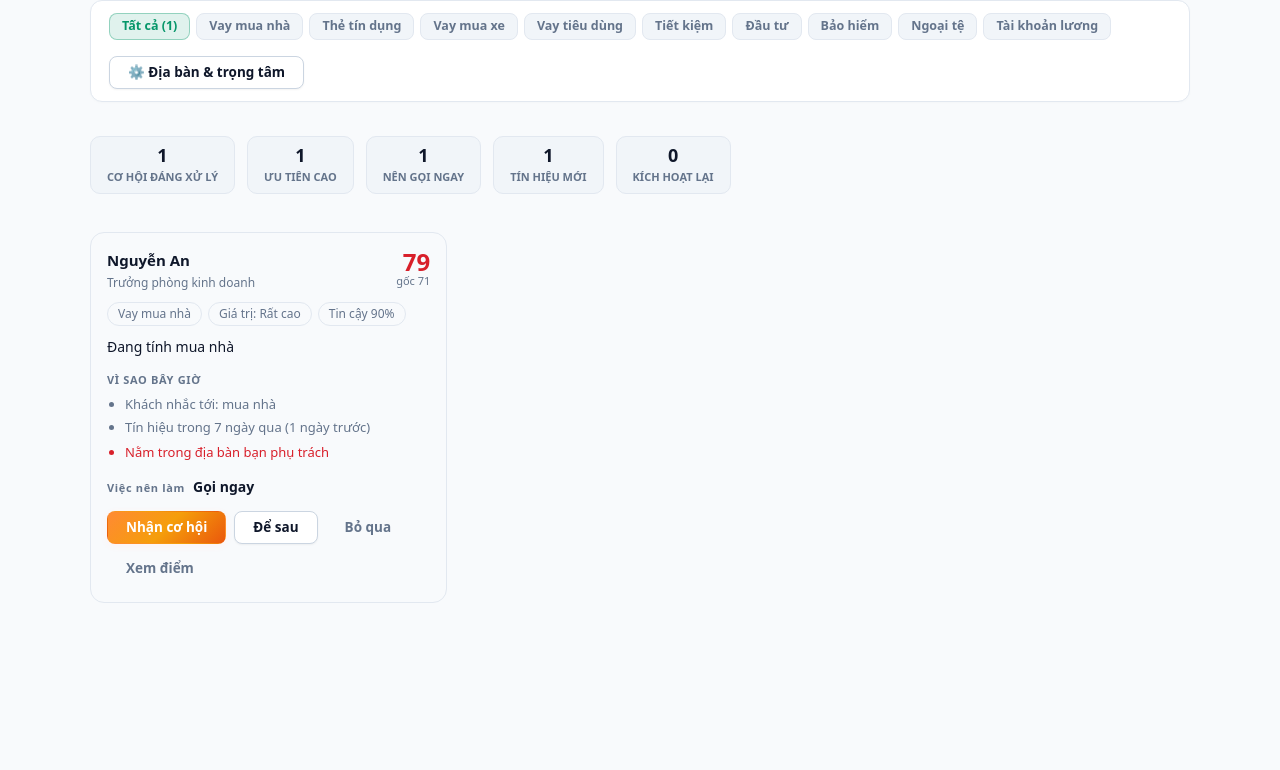
Cơ hội hôm nay › bỏ qua mà không nêu lý do thì bị chặn
Click the button "Bỏ qua" at point(368, 527), box [326,511,410,544]
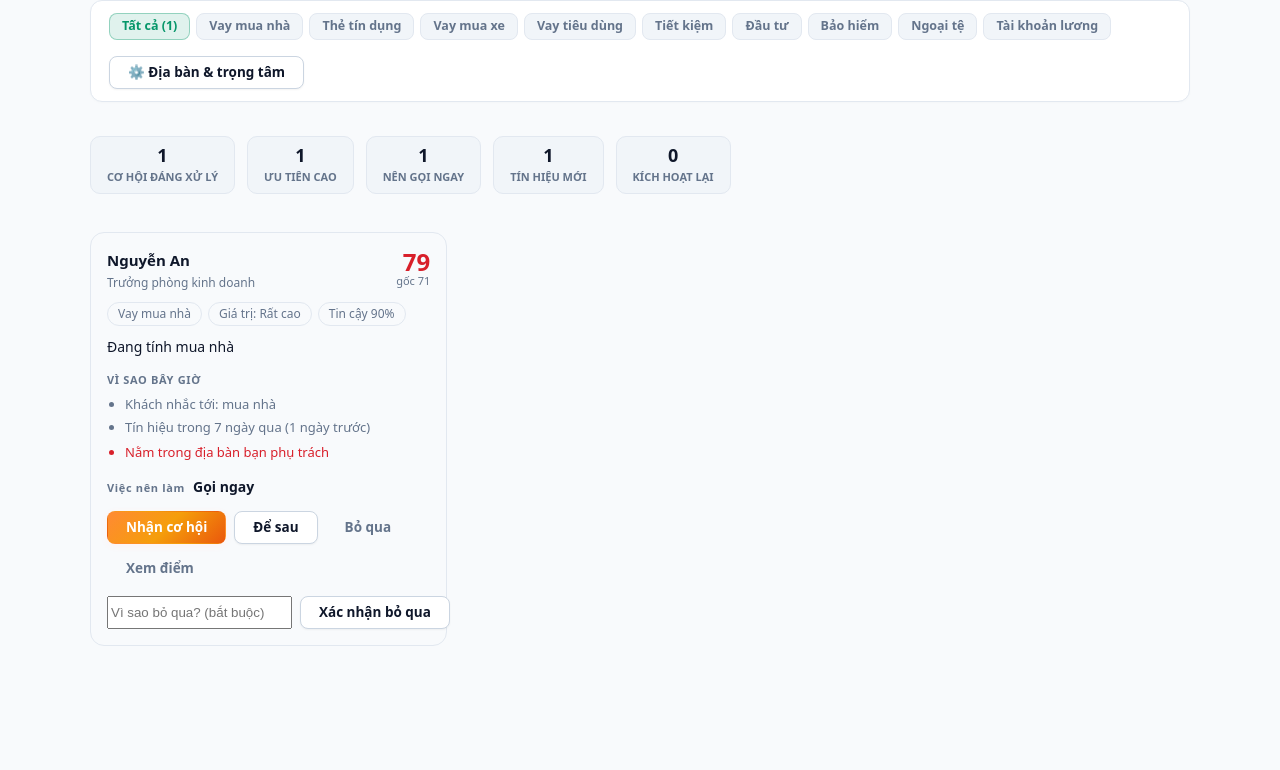
Click the button "Xác nhận bỏ qua" at point(375, 612), box [300,596,450,629]
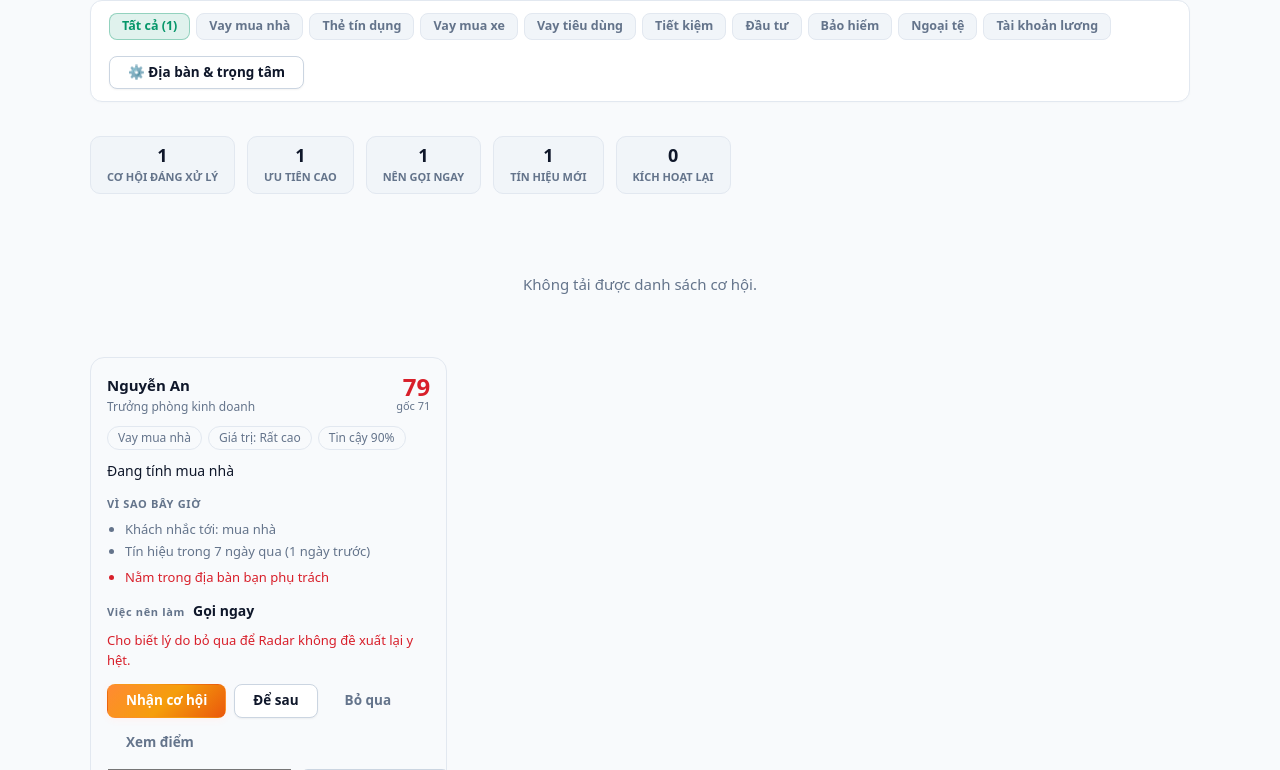
Check: the text "Cho biết lý do bỏ qua để Radar không đề xuất lại y hệt." is shown, box [107,631,430,670]
